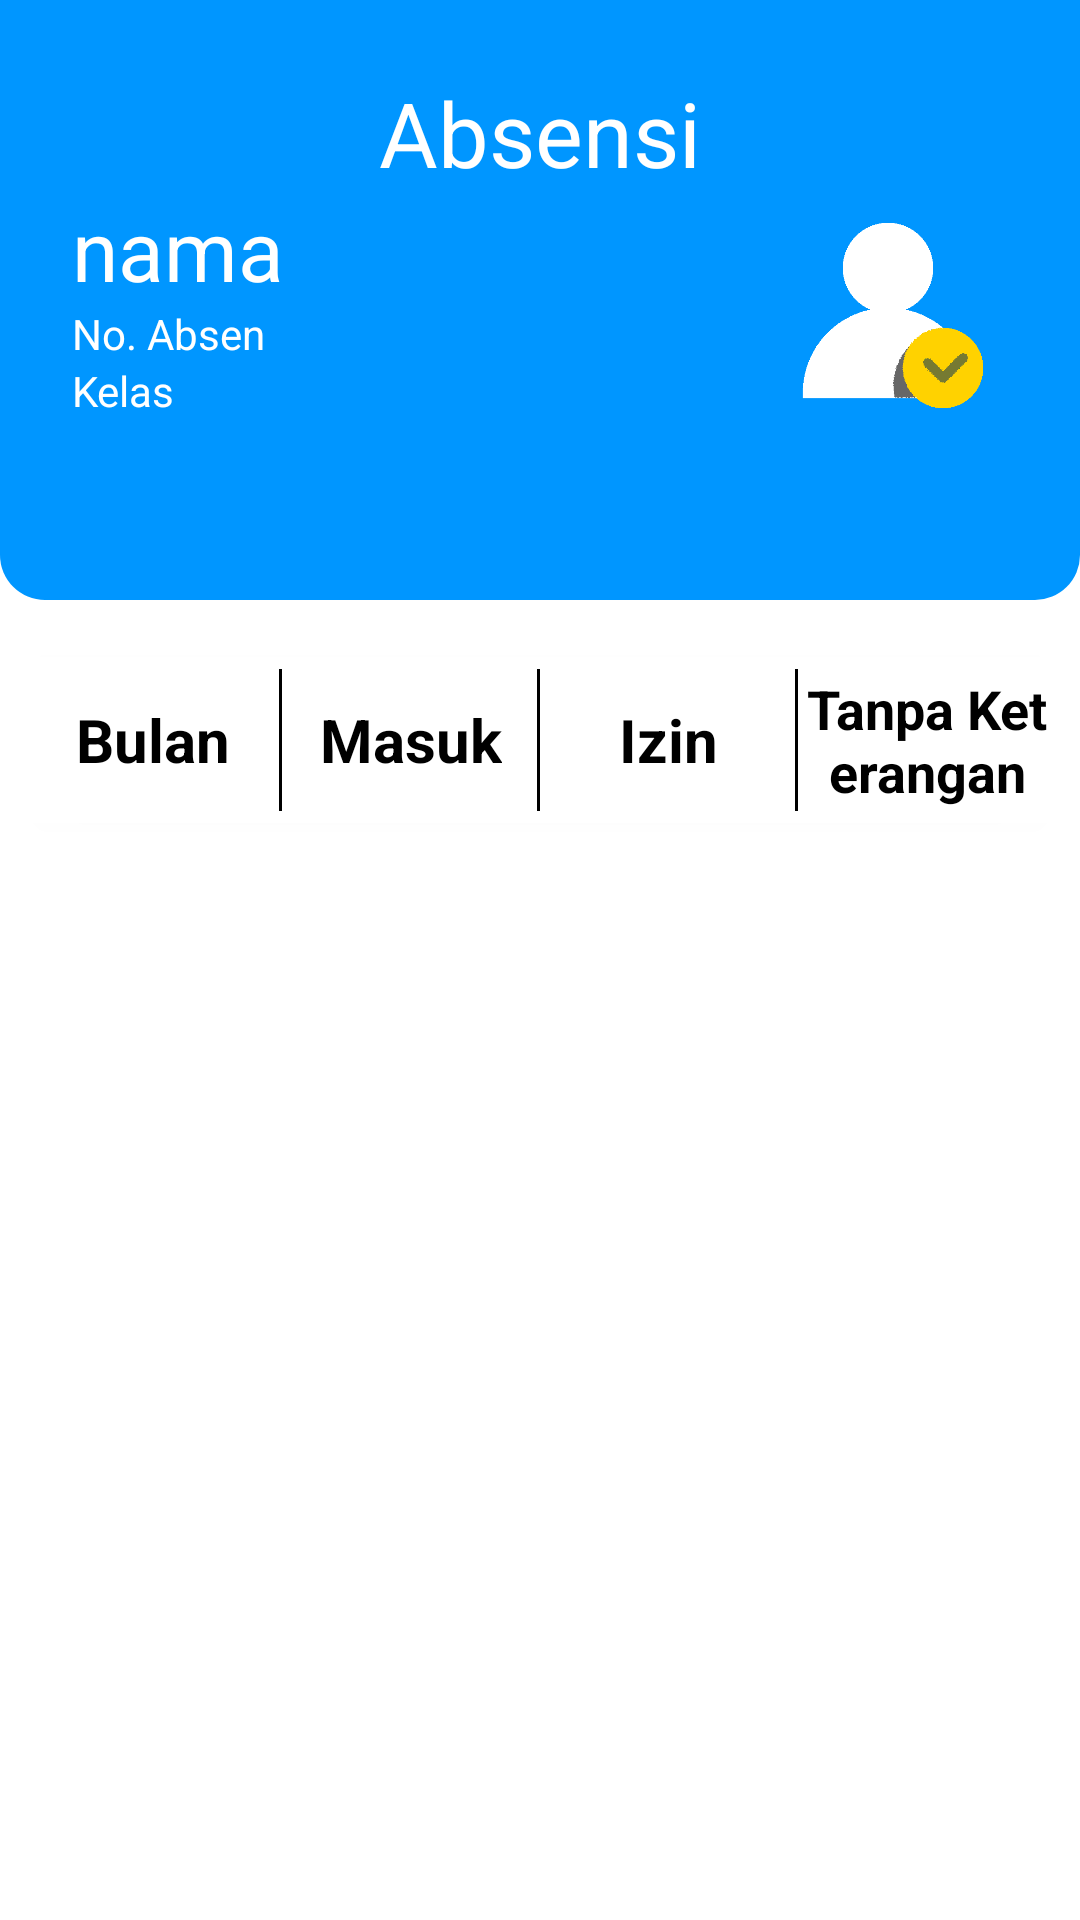

Point at icon controls on the screen. Image size 1080px×1920px, points as (x=x, y=y).
people: (x=892, y=315)
